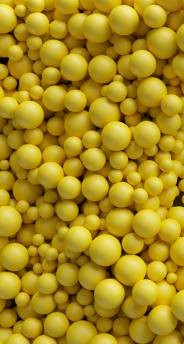Balloon: (94, 278, 125, 309), (90, 234, 119, 267), (146, 27, 177, 57), (114, 255, 145, 283), (148, 306, 177, 335), (110, 6, 140, 34), (85, 11, 111, 43), (128, 49, 156, 78), (88, 55, 117, 83), (101, 121, 130, 149), (133, 209, 160, 238), (61, 54, 88, 82), (17, 101, 45, 128), (1, 244, 28, 272), (90, 98, 119, 124), (139, 77, 164, 107), (105, 208, 132, 235), (82, 174, 109, 200), (63, 226, 90, 252), (134, 120, 159, 148), (132, 279, 158, 305), (42, 312, 68, 338), (41, 40, 66, 67), (68, 321, 97, 344), (1, 206, 22, 236), (143, 4, 168, 28), (110, 183, 134, 208), (17, 144, 41, 168), (1, 271, 21, 299), (39, 163, 62, 187), (83, 148, 106, 171), (64, 89, 87, 112), (25, 13, 49, 35), (56, 263, 80, 285), (55, 200, 78, 222), (58, 176, 80, 198), (160, 218, 181, 241), (22, 317, 43, 338), (106, 82, 127, 102), (138, 160, 160, 179), (1, 6, 16, 33), (162, 95, 181, 116), (37, 273, 56, 294), (1, 96, 17, 119), (82, 130, 101, 149), (147, 262, 166, 281), (109, 151, 129, 169), (49, 19, 67, 39), (66, 301, 84, 320), (24, 129, 44, 146), (64, 137, 82, 155), (145, 177, 163, 195), (42, 67, 61, 84), (55, 1, 79, 14), (47, 117, 64, 135), (113, 38, 132, 54), (1, 309, 17, 327), (96, 317, 113, 333), (120, 98, 136, 114), (84, 213, 100, 229), (38, 202, 54, 218), (161, 171, 177, 187), (113, 319, 129, 335), (159, 135, 176, 150), (7, 45, 24, 60), (76, 290, 93, 304), (14, 291, 29, 306), (134, 188, 148, 204), (25, 36, 42, 49), (2, 76, 17, 90), (53, 289, 68, 303), (126, 171, 140, 185), (30, 86, 44, 99), (109, 169, 122, 182), (45, 246, 57, 260), (17, 200, 29, 212), (166, 272, 178, 284), (15, 5, 27, 16), (32, 233, 44, 244), (16, 168, 28, 179), (84, 306, 95, 316), (1, 160, 9, 170)
